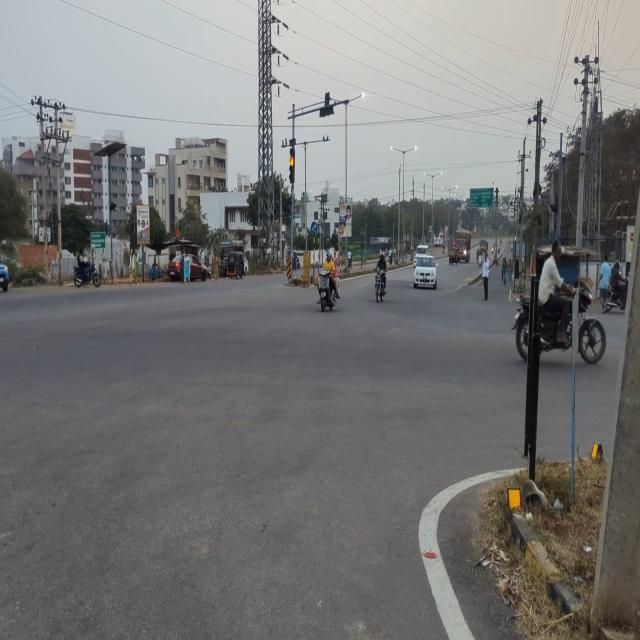bien_cam: (309, 219, 319, 237), (337, 222, 344, 235)
